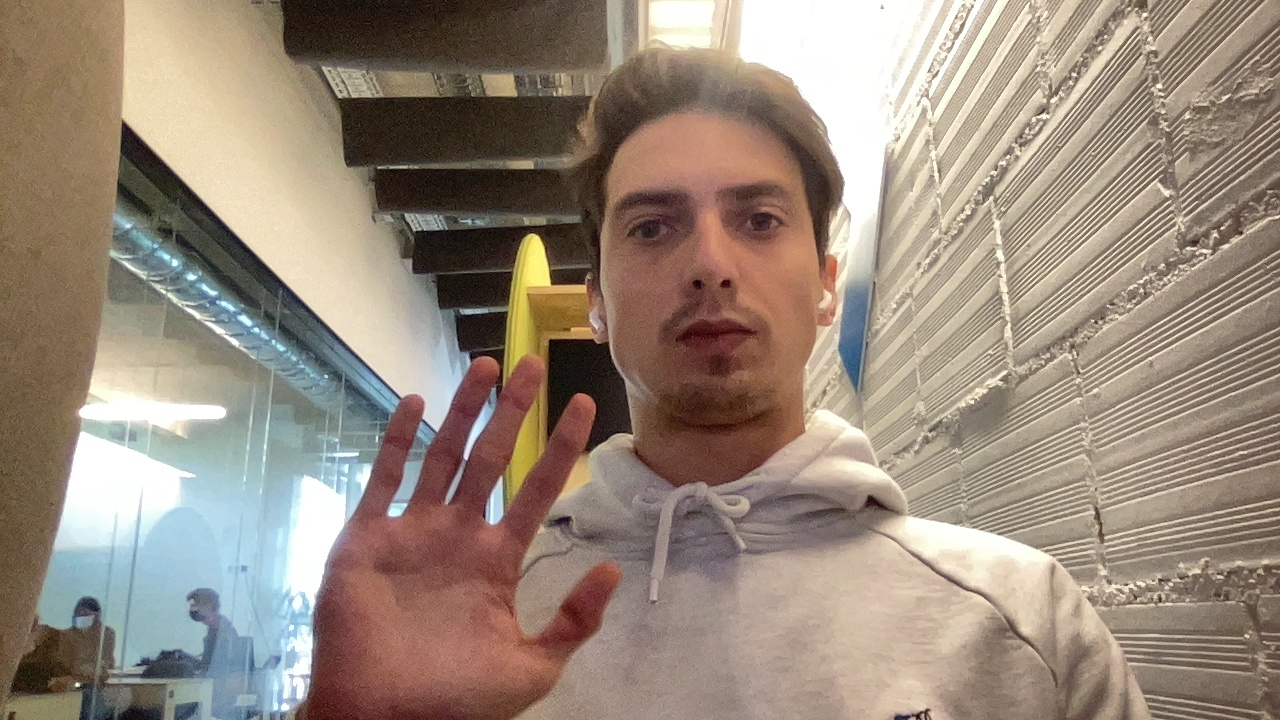Hello: (264, 313, 622, 712)
